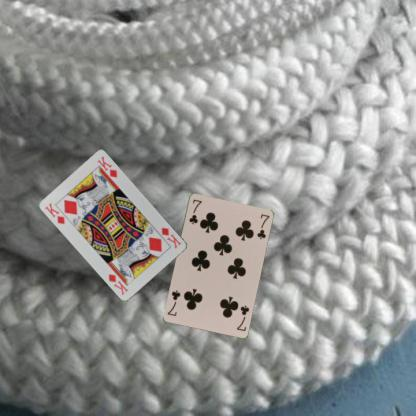7c: (186, 196, 202, 226), (234, 302, 250, 332)
Kd: (42, 200, 67, 225), (159, 224, 182, 249)
